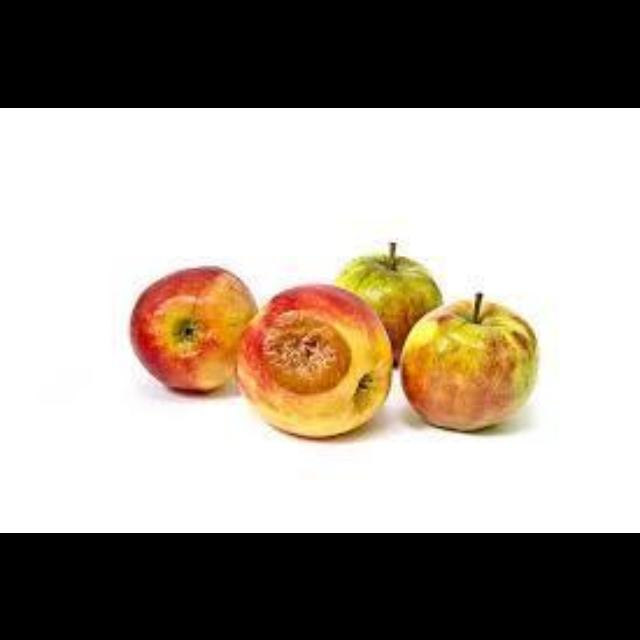apple: (235, 284, 391, 435), (400, 291, 538, 428), (130, 265, 256, 391), (335, 242, 440, 363)
rotten: (259, 320, 351, 396)
